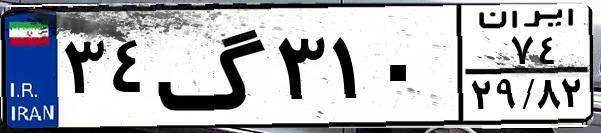0: (385, 28, 445, 110)
1: (330, 28, 385, 110)
2: (560, 70, 590, 125), (470, 70, 495, 125)
3: (270, 28, 330, 110), (57, 26, 110, 100)
4: (110, 28, 156, 98), (537, 27, 568, 80)
7: (508, 27, 537, 80)
8: (535, 70, 560, 125)
9: (495, 70, 520, 125)
گ: (156, 12, 270, 120)
